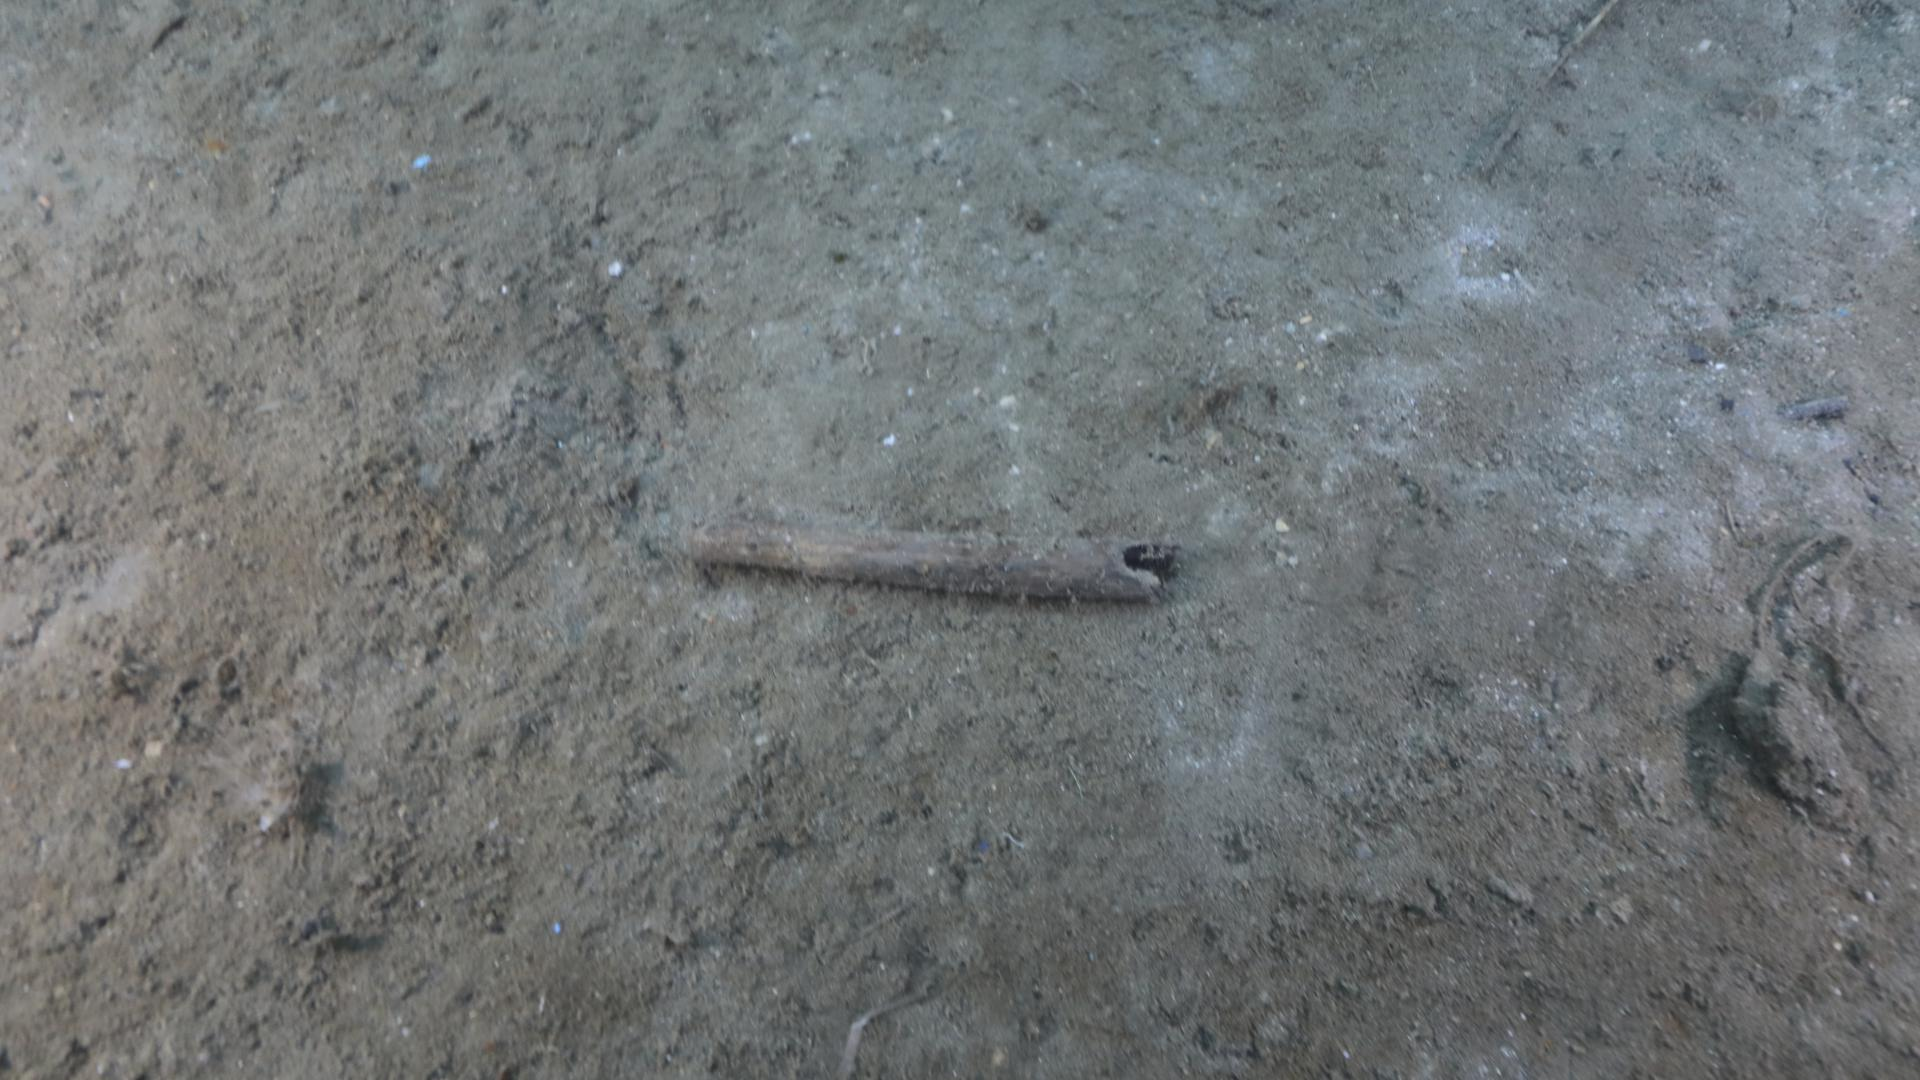wood: (686, 518, 1188, 607)
